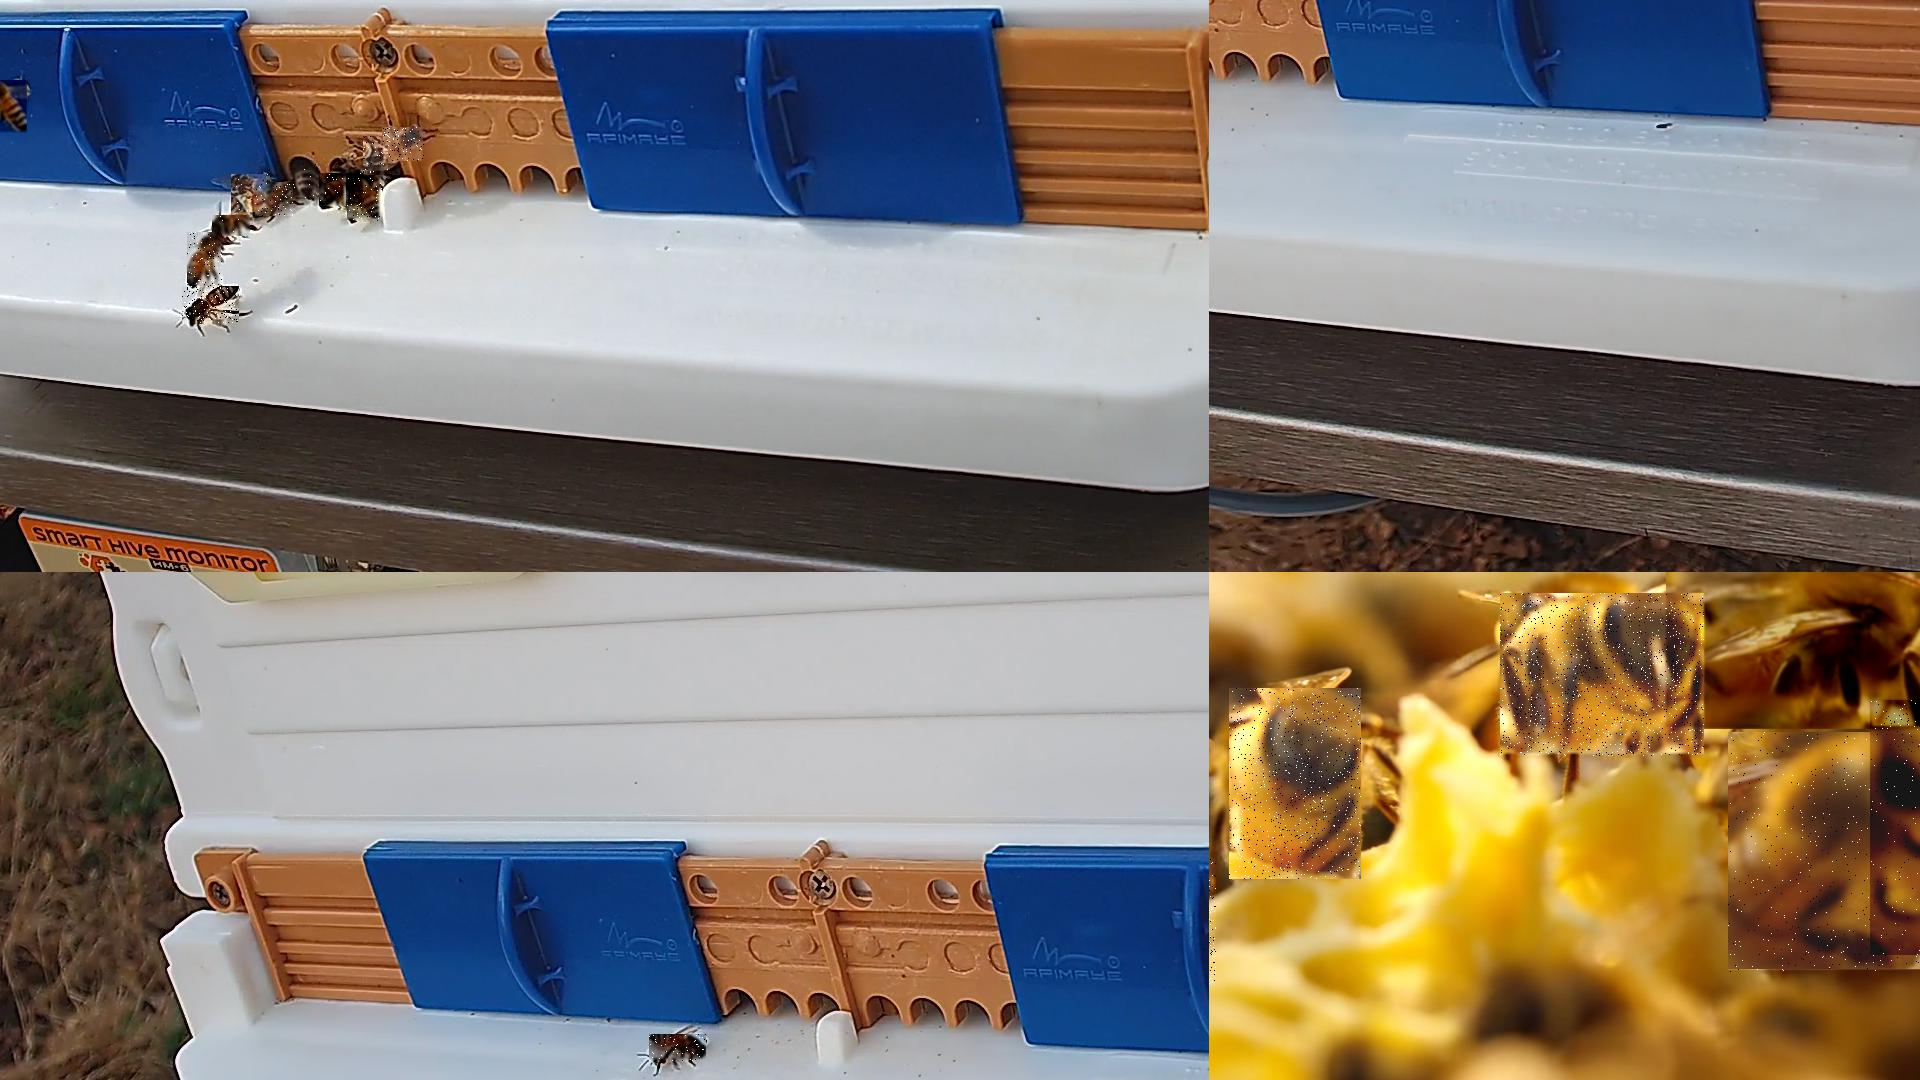bee: (1727, 732, 1919, 975), (1665, 572, 1919, 731), (1501, 593, 1705, 758), (1229, 688, 1362, 880), (1870, 700, 1919, 957), (182, 287, 240, 324), (348, 175, 384, 223), (649, 1035, 707, 1063), (320, 174, 367, 208), (232, 174, 270, 214), (382, 128, 426, 162), (256, 182, 295, 218), (363, 137, 389, 174), (212, 215, 253, 237), (295, 161, 319, 199)
pollenbee: (189, 233, 224, 289), (0, 80, 29, 136)
